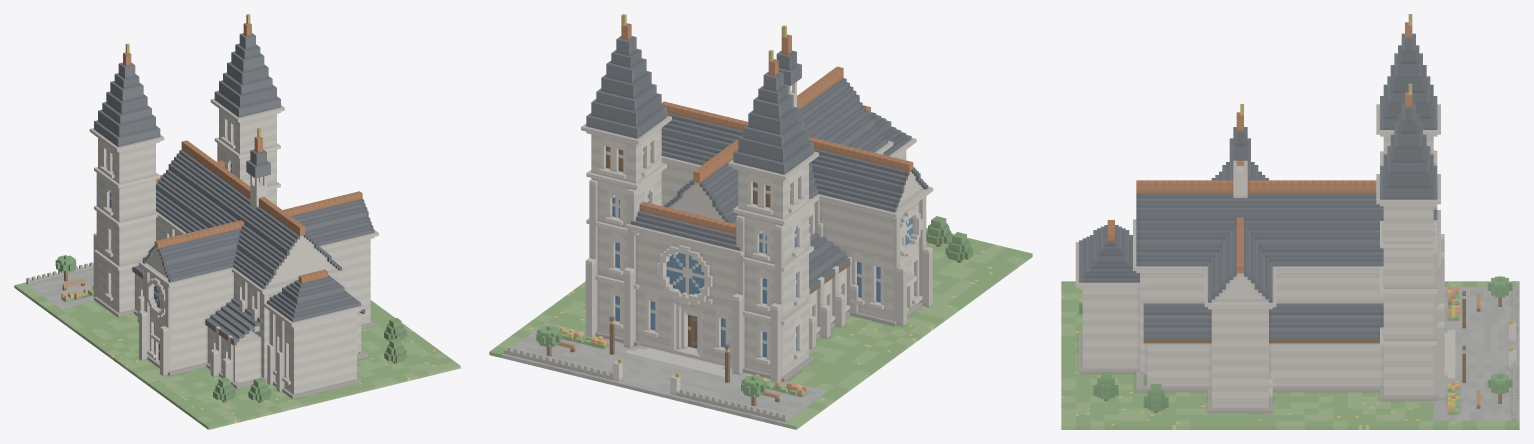
File: cathedral.glb
3 renders of one model, left to right at view 1: azimuth 30°, elevation 25°; view 2: azimuth 150°, elevation 25°; view 3: azimuth 270°, elevation 25°, orthographic. The views are drawn at different scales.
Visible parts, largest first — view 1: cathedral; view 2: cathedral; view 3: cathedral.
Boxes of the visible parts, x1,y1,x2,y2 form: cathedral: (14,14,460,429); cathedral: (489,14,1032,429); cathedral: (1061,14,1519,429).
Size of the model in its own units: 12 by 11.88 by 16.
